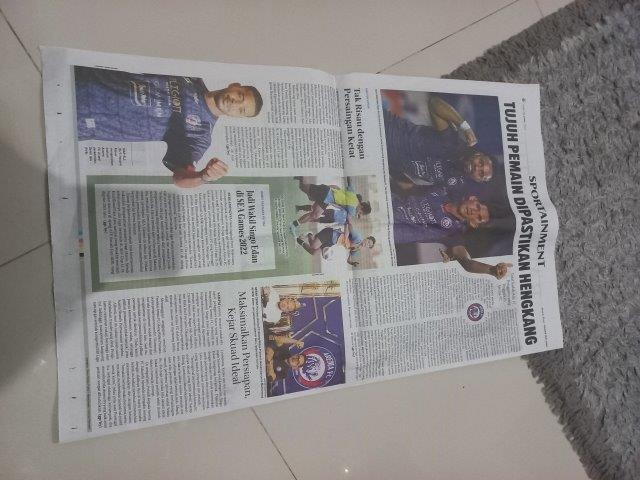kertas: (40, 44, 563, 445)
